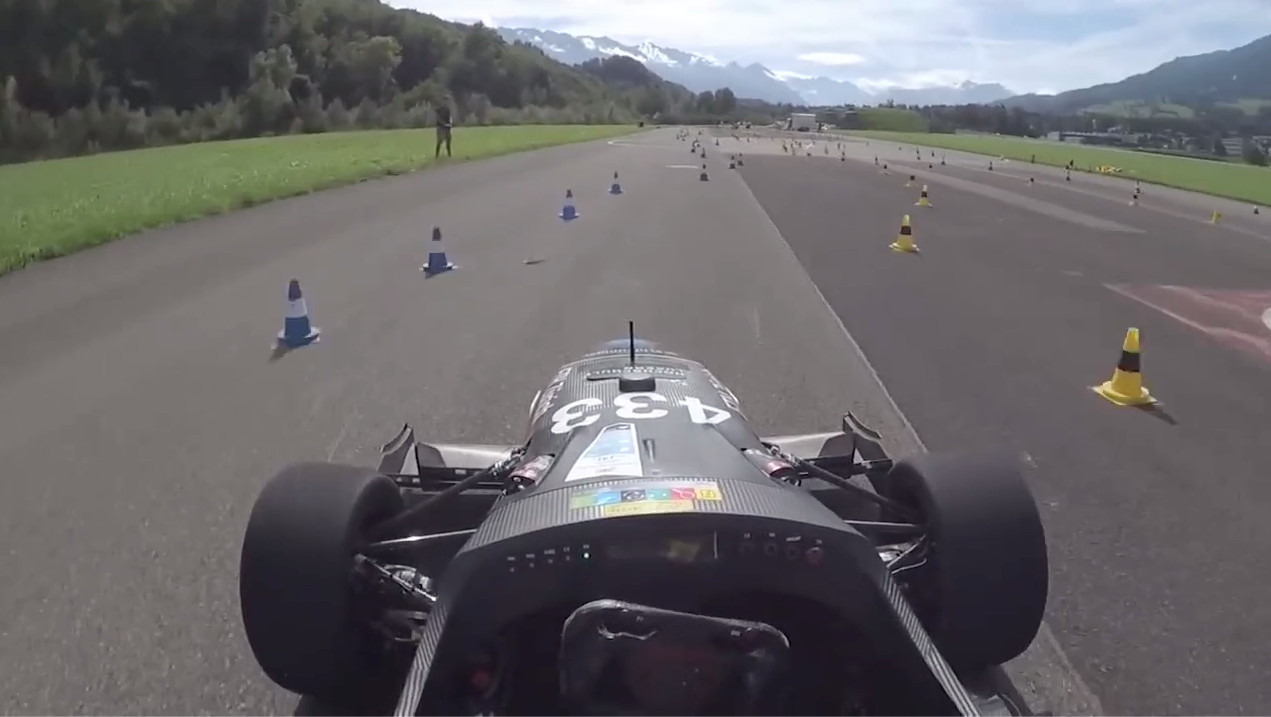lcone: (267, 272, 326, 350), (419, 221, 458, 278), (556, 186, 584, 222)
rcone: (1087, 325, 1162, 413), (885, 210, 921, 260)
